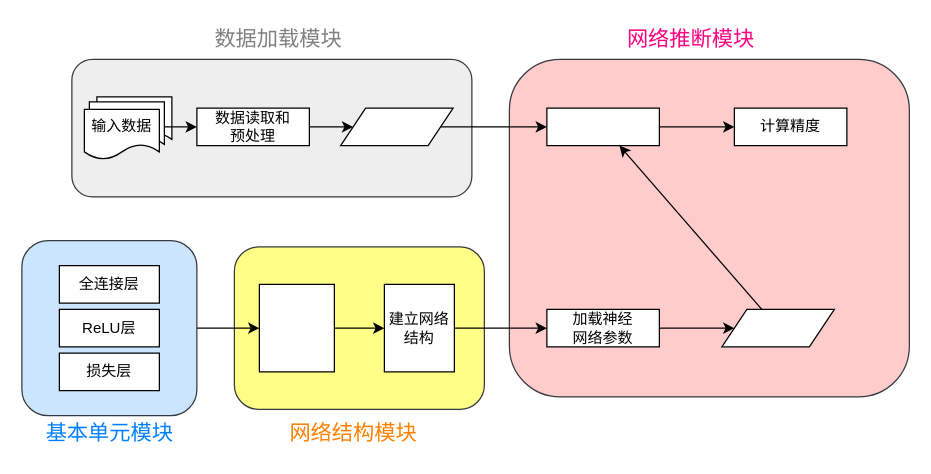
This 931x474 diagram has some shape labels left out. The box of each missing label's shape, as (x1, y1, x2, y2) in pixels:
前向传播: (546, 107, 659, 146)
样本队列: (339, 107, 453, 146)
模型参数: (721, 308, 834, 347)
神经网络初始化: (258, 283, 334, 372)
